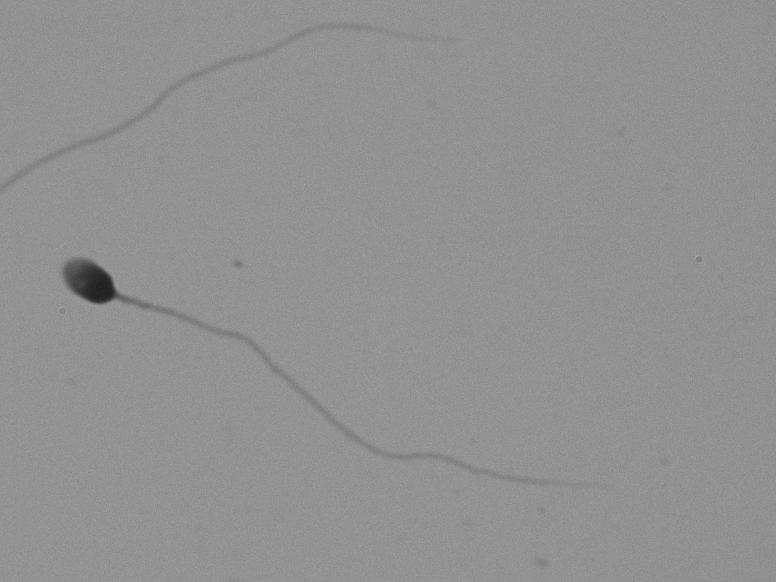Normal: (35, 223, 648, 500)
